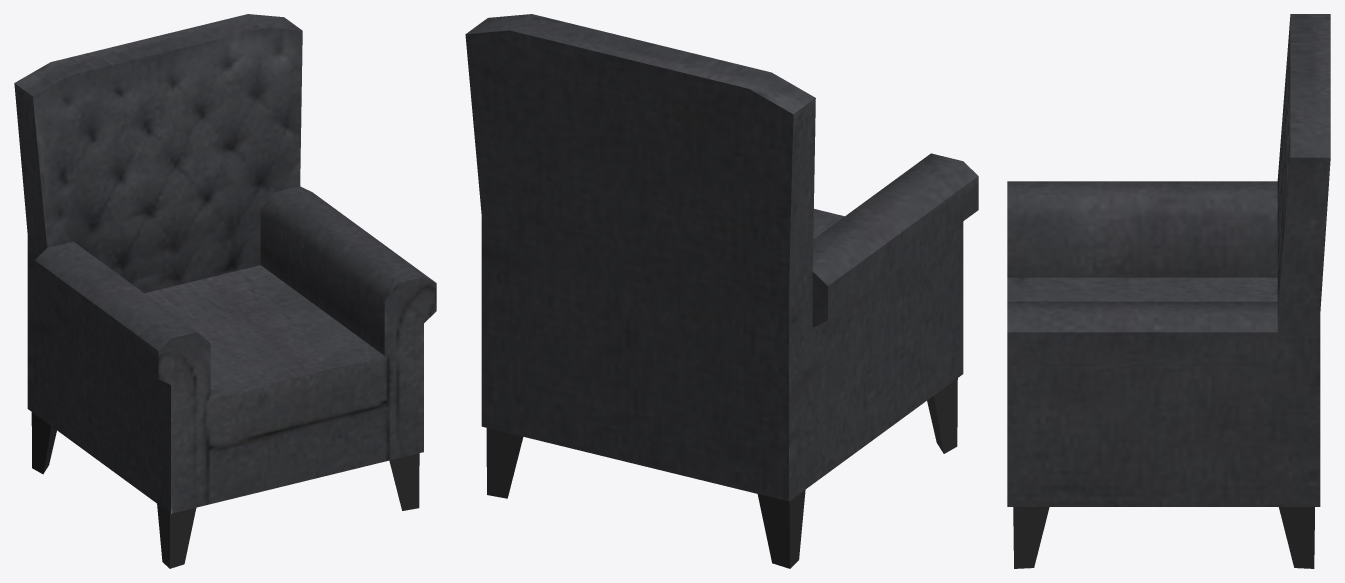
File: Armchair_01-col.glb
The picture shows the model from 3 angles, left to right: view 1: azimuth 30°, elevation 25°; view 2: azimuth 150°, elevation 25°; view 3: azimuth 270°, elevation 25°; orthographic projection. The views are drawn at different scales.
Visible parts, largest first — view 1: Armchair_01-col; view 2: Armchair_01-col; view 3: Armchair_01-col.
Boxes of the visible parts, x1,y1,x2,y2 form: Armchair_01-col: [14, 14, 436, 568]; Armchair_01-col: [465, 14, 978, 568]; Armchair_01-col: [1007, 14, 1330, 568].
Size of the model in its own units: 0.9048 by 1.23 by 0.8358.
Materials: 1 (1 with a texture image).
